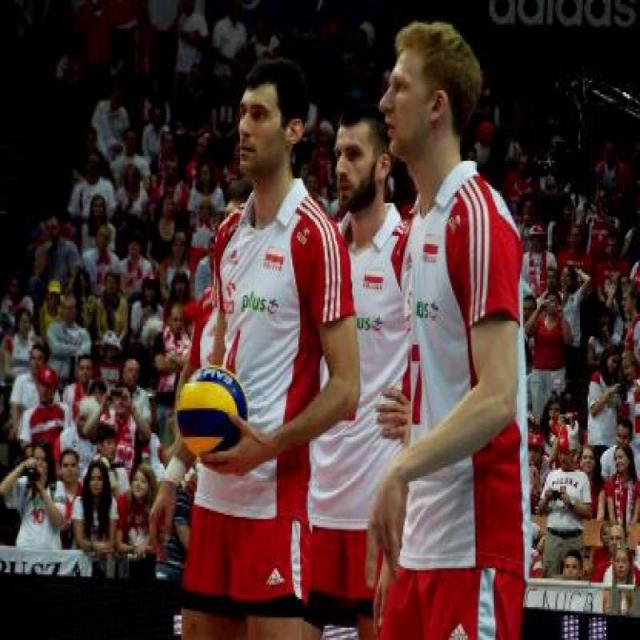volleyball: (175, 363, 250, 455)
